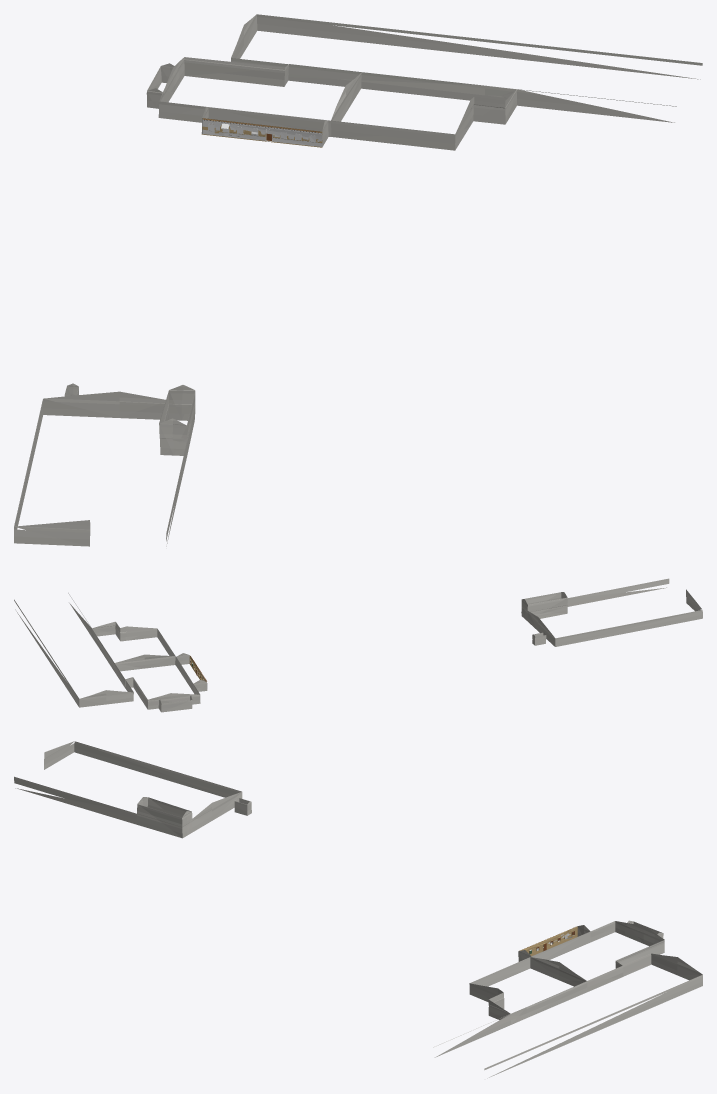
File: zona_4_-1.glb
3 renders of one model, top to bottom at view 1: azimuth 30°, elevation 25°; view 2: azimuth 150°, elevation 25°; view 3: azimuth 270°, elevation 25°, orthographic. The views are drawn at different scales.
Parts seen in each view (by area): view 1: z_casas_4_-1, z_fachadas_4_-1; view 2: z_casas_4_-1; view 3: z_casas_4_-1.
Part boxes in pixels (box(x1,y1,x2,y2)): z_casas_4_-1: box(14, 14, 702, 546); z_fachadas_4_-1: box(201, 118, 322, 146); z_casas_4_-1: box(14, 578, 702, 712); z_casas_4_-1: box(14, 741, 702, 1078).
Size of the model in its own units: 226 by 7.95 by 201.
